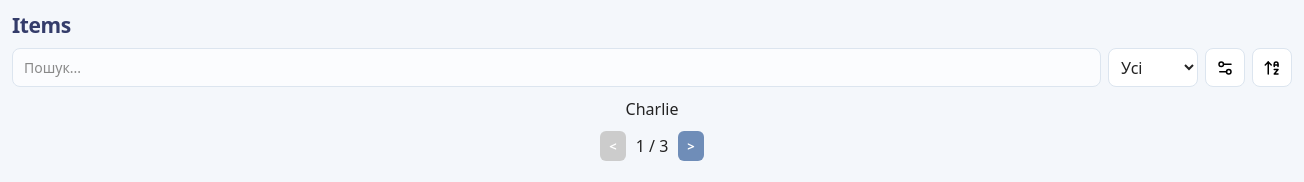
Scenario: PaginatedSearchableList › pagination › resets to first page on search and filter-field change
Click the button ">" at coordinates (691, 146), box [678,131,704,161]
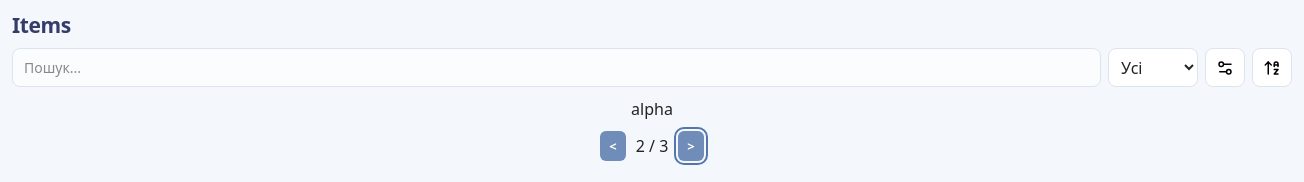
Click the button ">" at coordinates (691, 146), box [678,131,704,161]
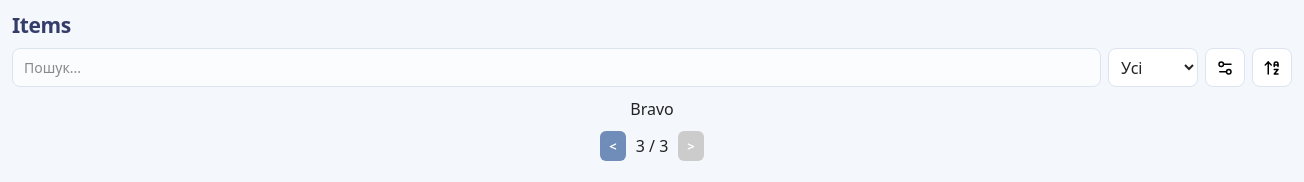
Result: the text "3 / 3" is shown at [636,134,668,158]
Type "kyiv" into the field named "Пошук у списку «Items»" at coordinates (556, 68), box [12,48,1101,87]
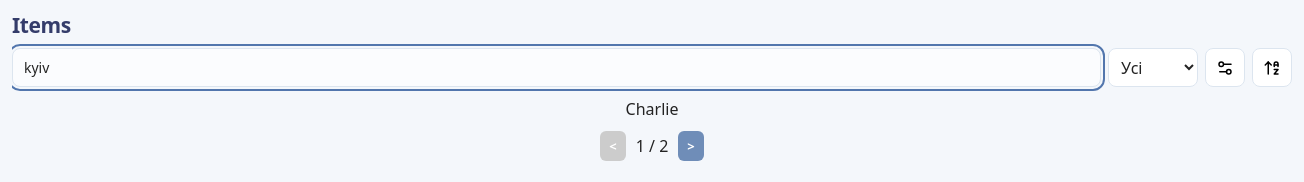
Result: the text "1 / 2" is shown at [636,134,668,158]
Click the button ">" at coordinates (691, 146), box [678,131,704,161]
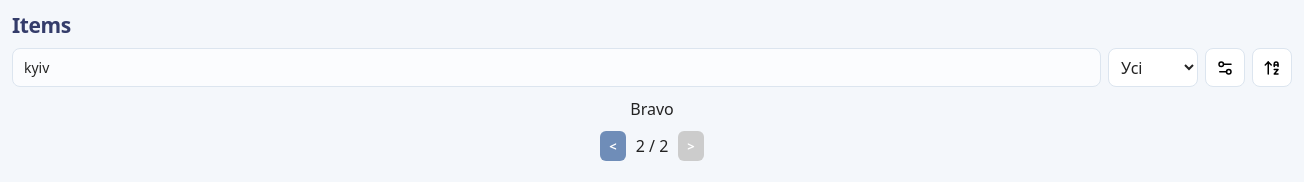
Result: the text "2 / 2" is shown at [636,134,668,158]
Select "city" in the dropdown named "Поле пошуку" at coordinates (1153, 68), box [1108,48,1198,87]
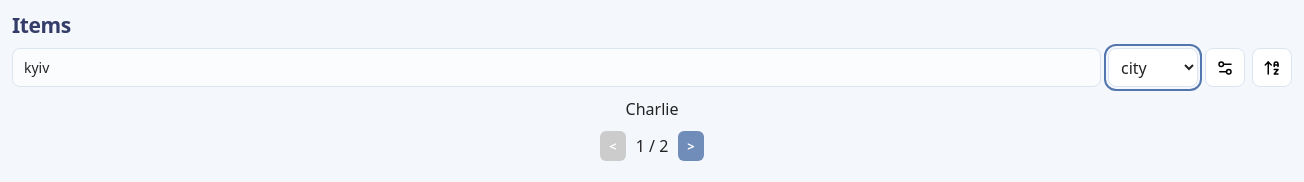
Result: the text "1 / 2" is shown at [636,134,668,158]
